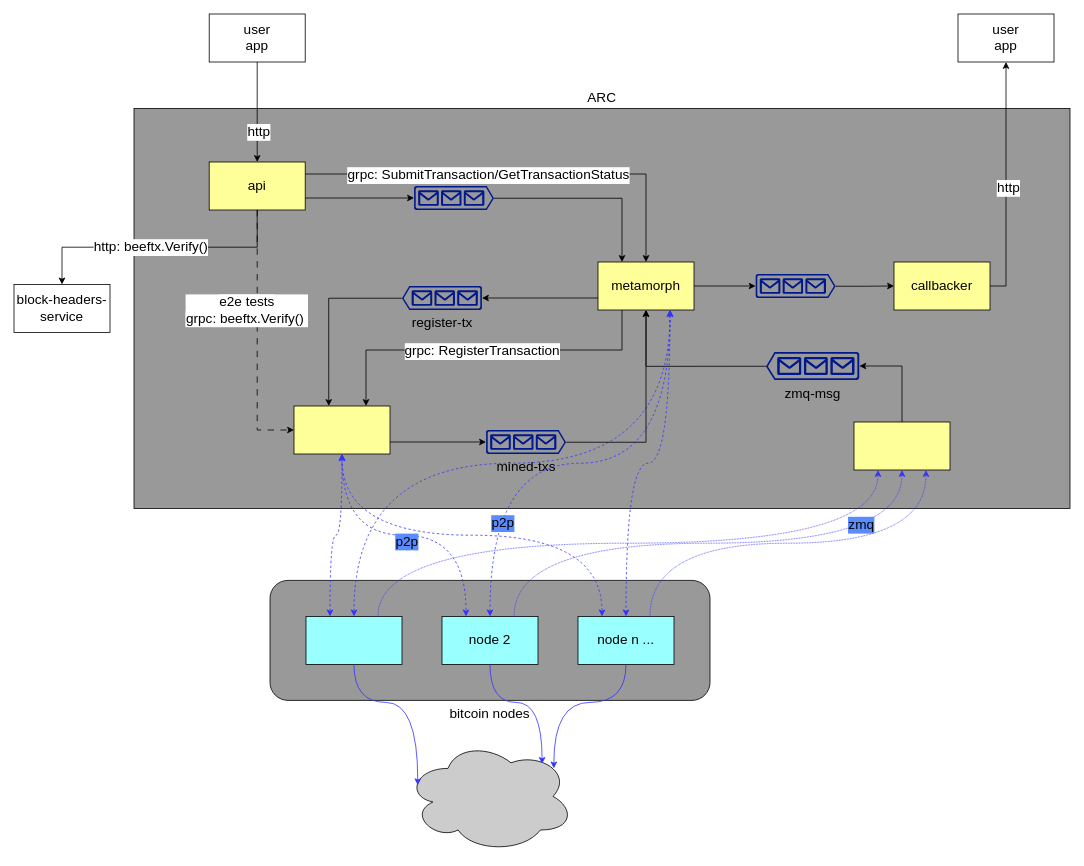
This 1084x866 diagram has some shape labels left out. The shapes that lost their labels are listed below. From the top down, each one's centre as x and y in pixels, then its label:
At point (454, 198): "submit-tx".
At point (795, 286): "callback".
At point (341, 429): "blocktx".
At point (901, 445): "msg-aggregator".
At point (353, 640): "node 1".
At point (489, 796): "p2p network".
